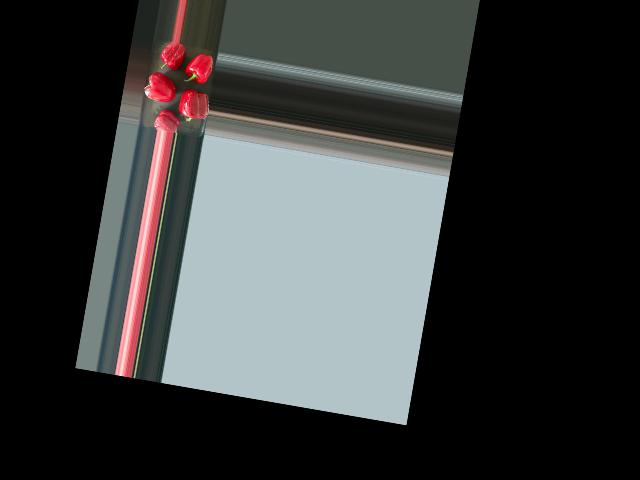bell_pepper: (148, 106, 182, 133)
